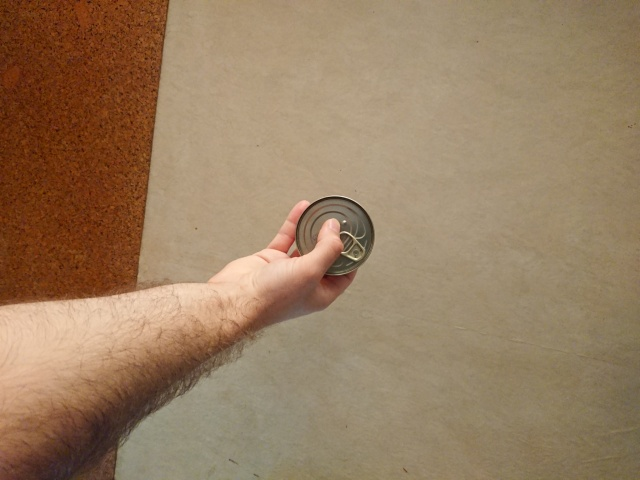Podravka Luncheon Meat 150g: (293, 193, 378, 279)
